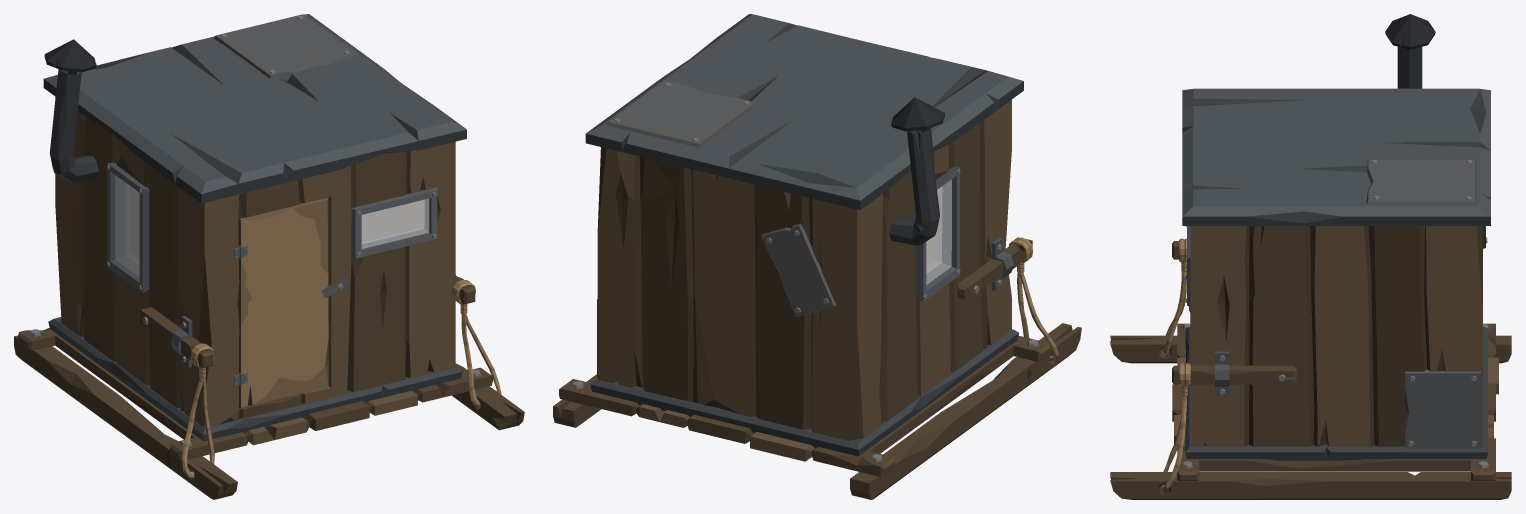
Rendered from alp_Prop_Ice_Fishing_Hut_01.glb.
3 renders of one model, left to right at view 1: azimuth 30°, elevation 25°; view 2: azimuth 150°, elevation 25°; view 3: azimuth 270°, elevation 25°, orthographic. The views are drawn at different scales.
Parts seen in each view (by area): view 1: SM_Prop_Ice_Fishing_Hut_01, SM_Prop_Ice_Fishing_Hut_01_Door_01, SM_Prop_Ice_Fishing_Hut_01_Glass_01; view 2: SM_Prop_Ice_Fishing_Hut_01, SM_Prop_Ice_Fishing_Hut_01_Glass_01; view 3: SM_Prop_Ice_Fishing_Hut_01.
Boxes of the visible parts, left/top/right/bottom form: SM_Prop_Ice_Fishing_Hut_01: left=14, top=14, right=524, bottom=499; SM_Prop_Ice_Fishing_Hut_01_Door_01: left=238, top=197, right=328, bottom=407; SM_Prop_Ice_Fishing_Hut_01_Glass_01: left=115, top=175, right=429, bottom=276; SM_Prop_Ice_Fishing_Hut_01: left=553, top=14, right=1081, bottom=499; SM_Prop_Ice_Fishing_Hut_01_Glass_01: left=926, top=179, right=951, bottom=284; SM_Prop_Ice_Fishing_Hut_01: left=1110, top=14, right=1511, bottom=499.
Size of the model in its own units: 3.34 by 3.41 by 3.59.
2 materials, 1 textured.
